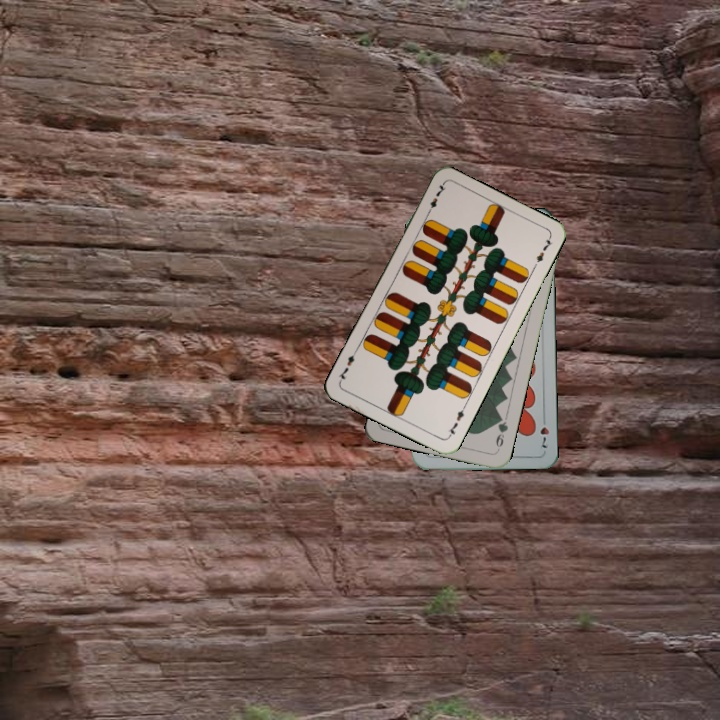E7: (423, 180, 449, 218), (444, 402, 468, 440)
G9: (492, 412, 511, 453)
H7: (536, 412, 551, 450)
